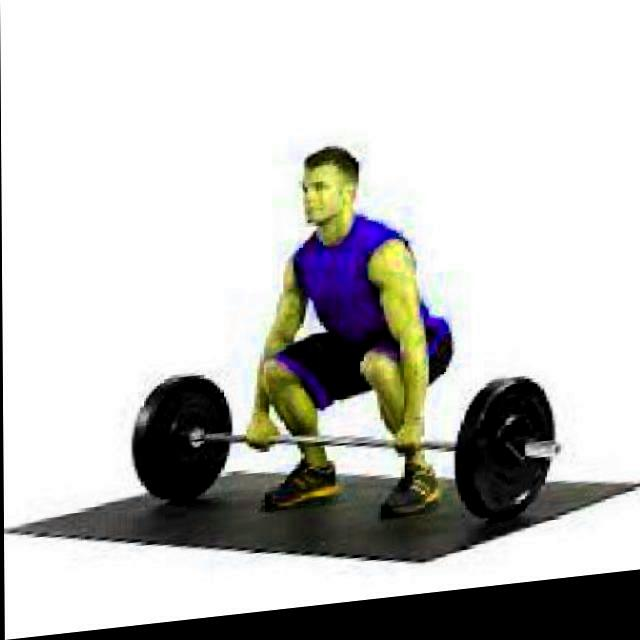barbell: (462, 380, 567, 540)
